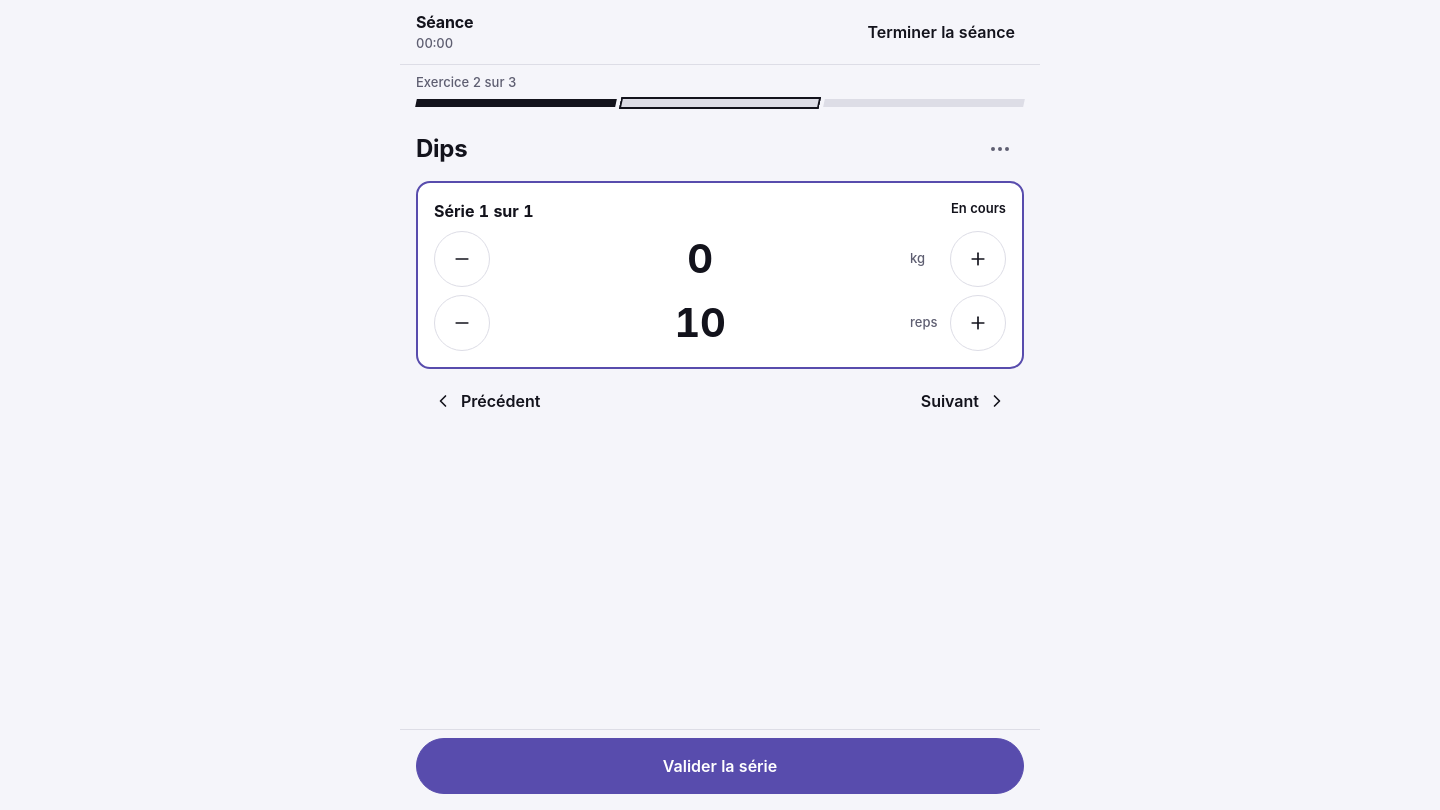
lot 6 — revenir aux exercices sautés › exercice en attente retiré : absent du message de fin ; « Annuler » le remet
Click the button named "Options de Dips".
click(1000, 148)  # box [976,124,1024,172]
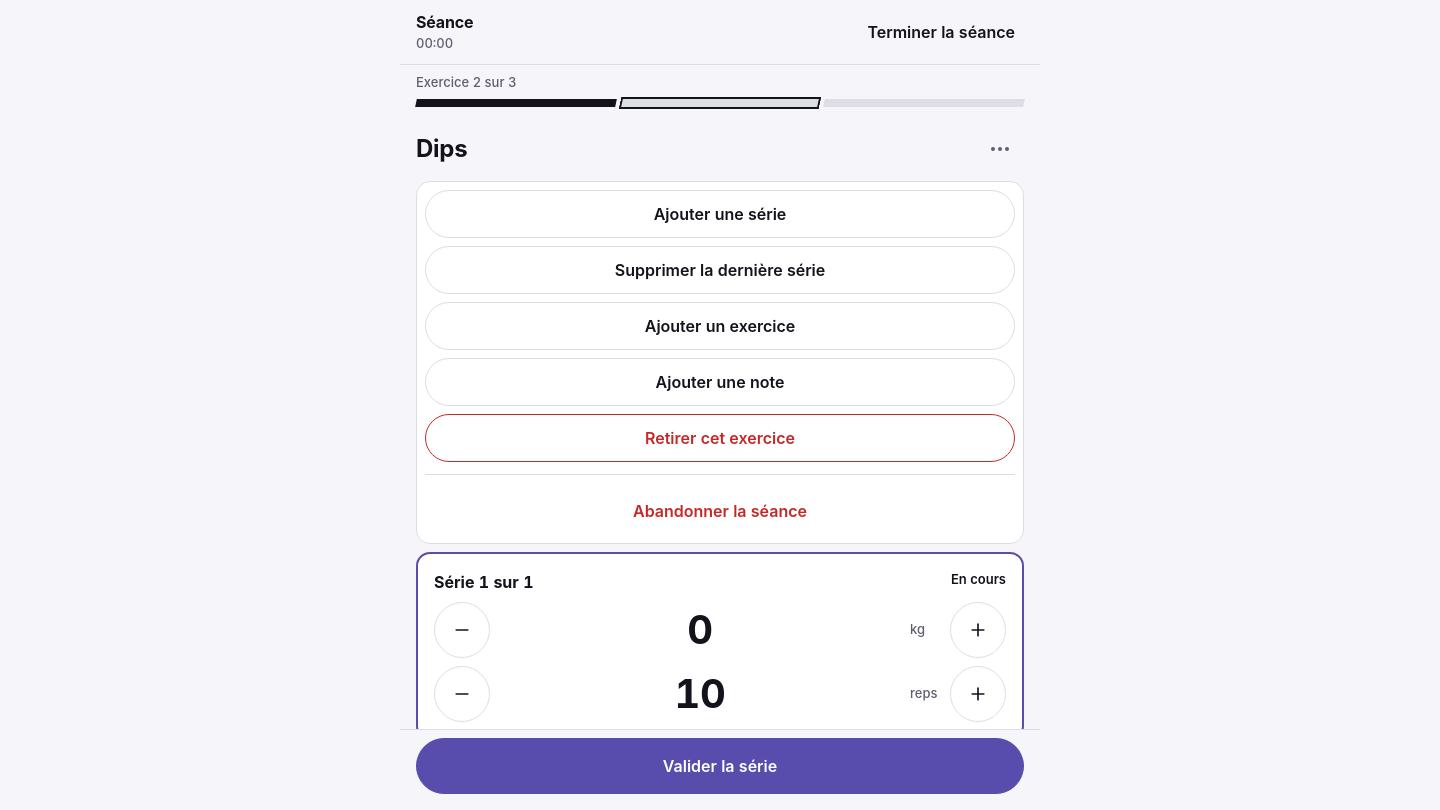
Click the button "Retirer cet exercice".
click(720, 438)  # box [425,414,1015,462]
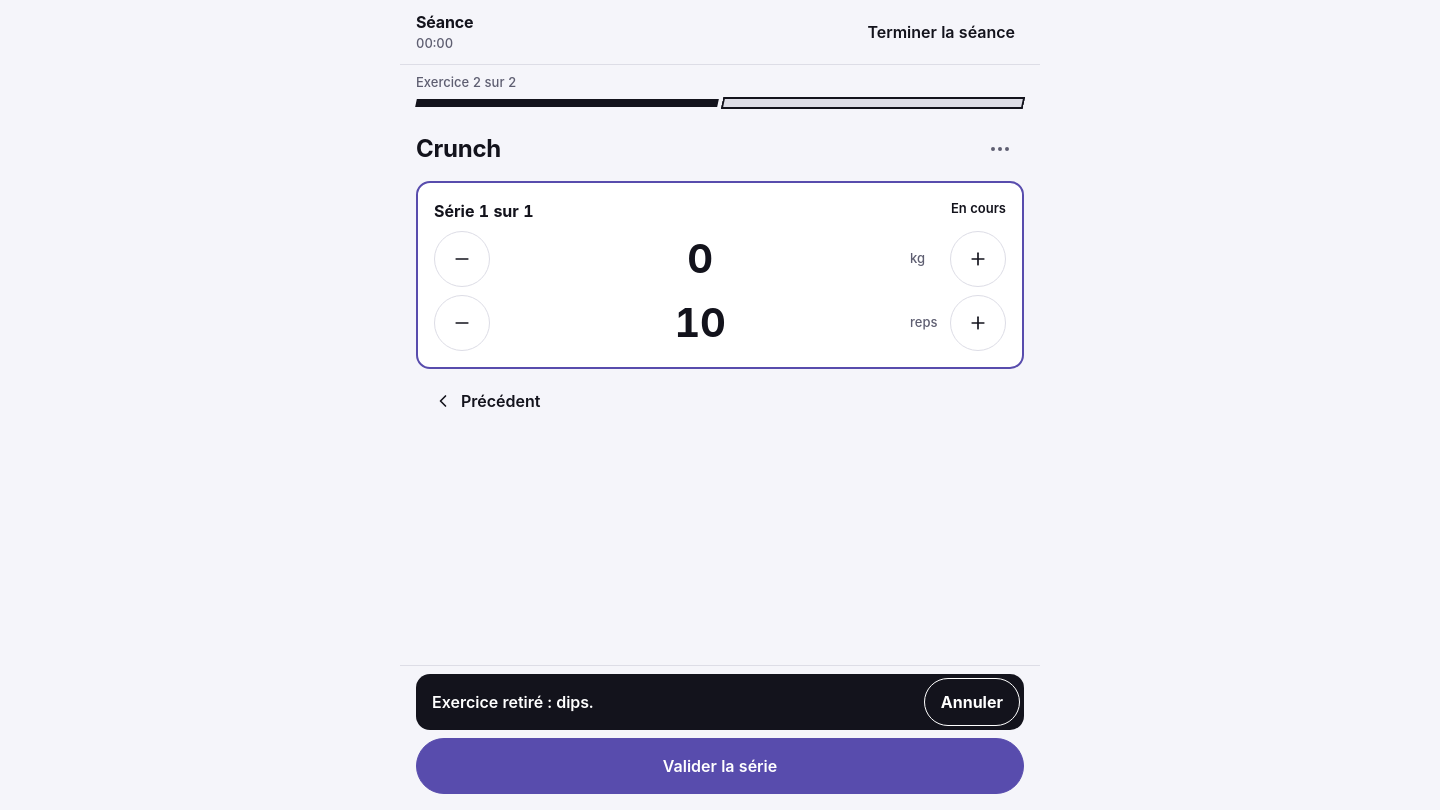
Click the button "Terminer la séance".
click(941, 32)  # box [858,8,1024,56]
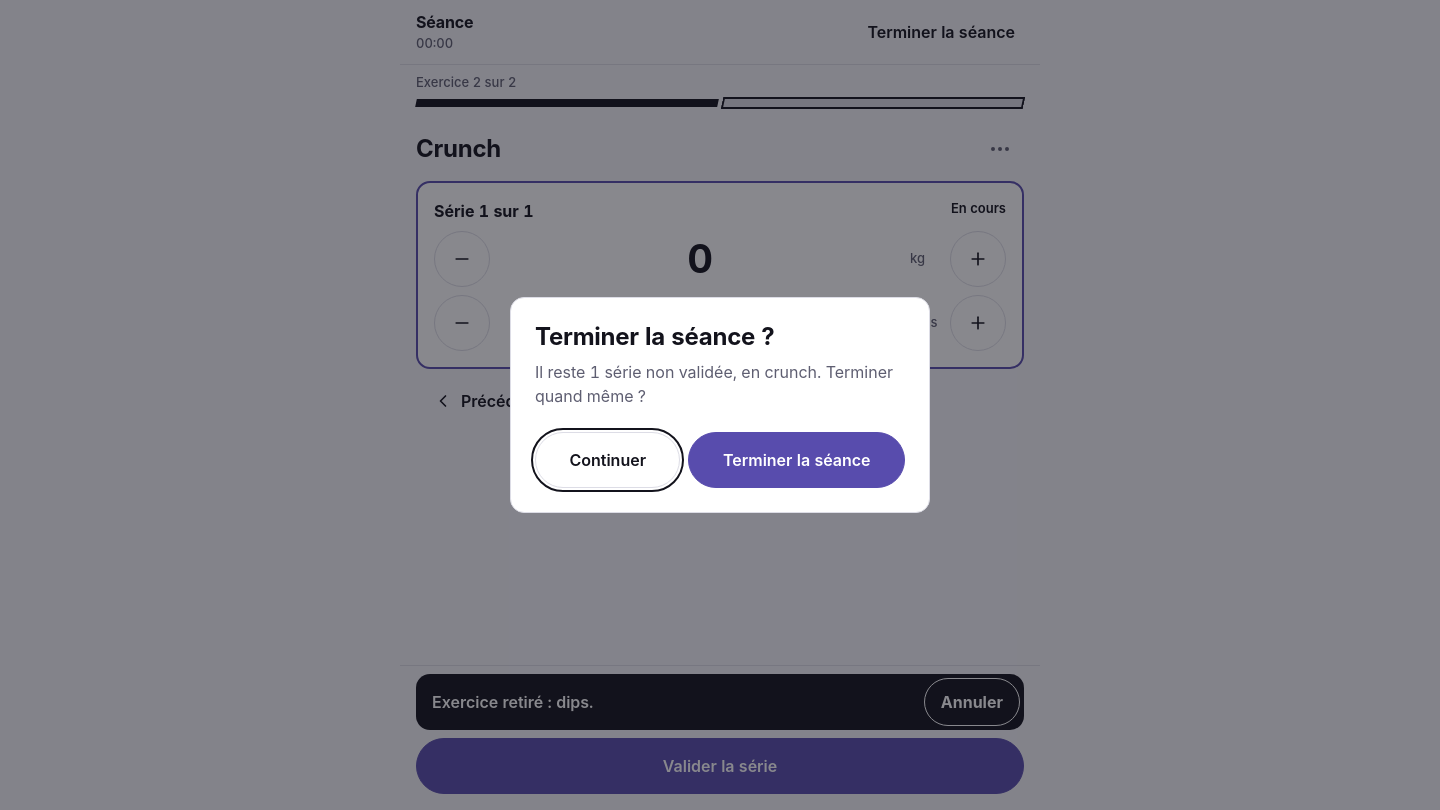
Result: the text "Il reste 1 série non validée, en crunch. Terminer quand même ?" is shown at [535,360,905,408]
Click the button "Continuer".
click(608, 460)  # box [535,432,680,488]
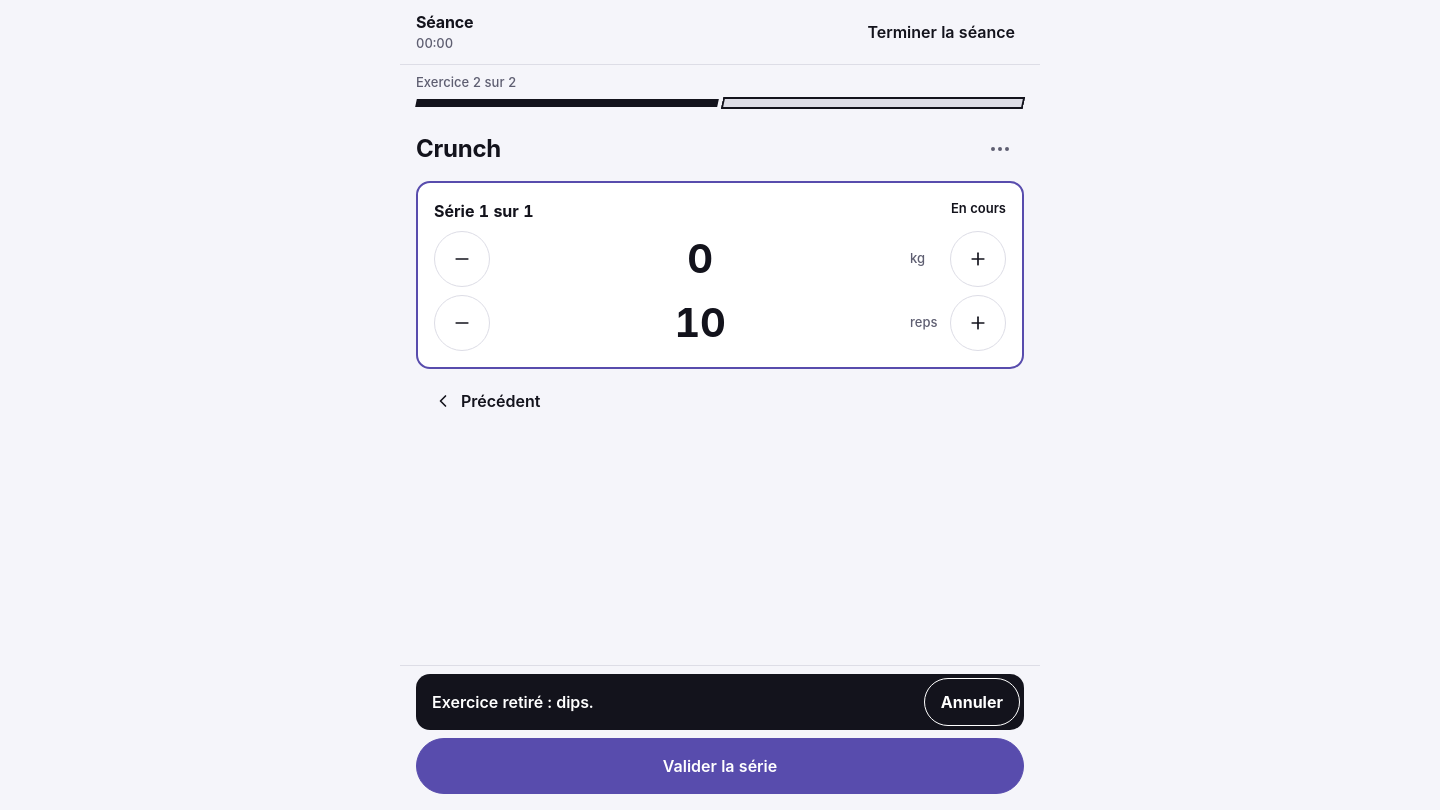
Click the button with aria-label "Annuler la suppression".
click(972, 702)  # box [924,678,1020,726]
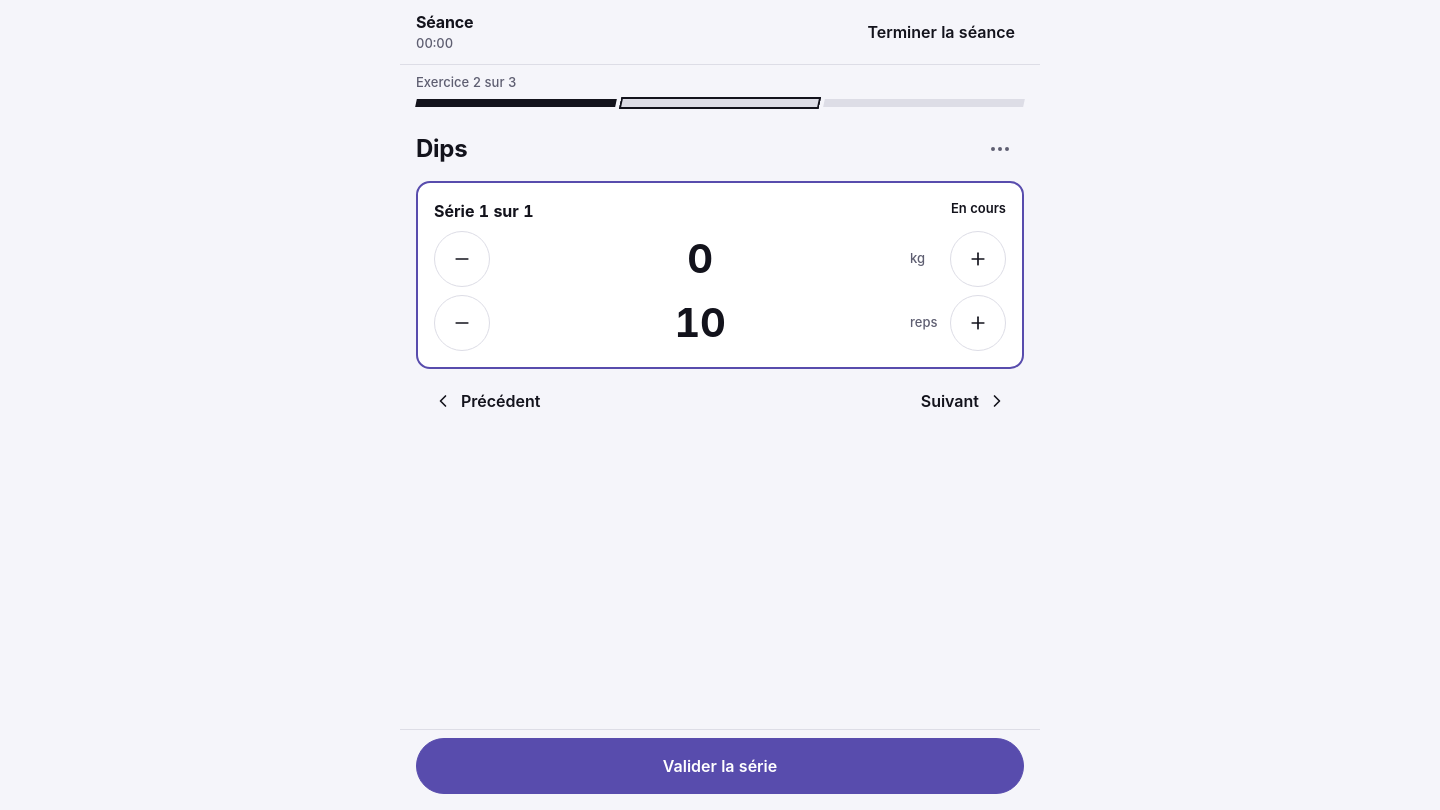
Click the button "Terminer la séance".
click(941, 32)  # box [858,8,1024,56]
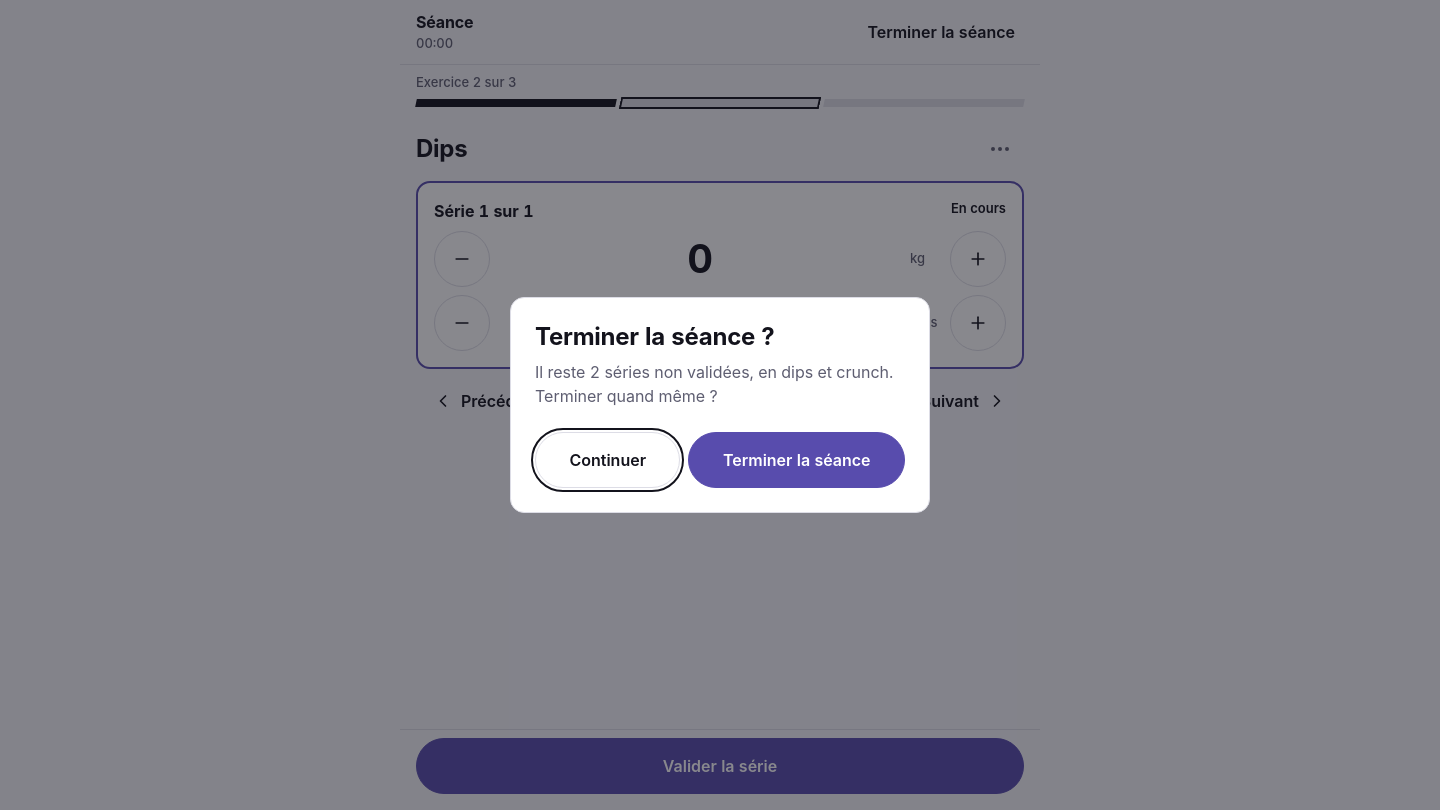
Result: the text "Il reste 2 séries non validées, en dips et crunch. Terminer quand même ?" is shown at [535,360,905,408]
